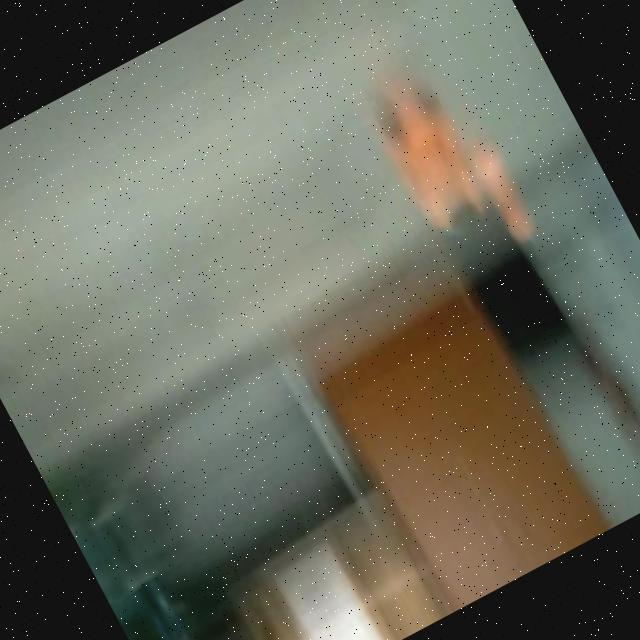ping-pong-ball: (338, 60, 470, 194), (481, 178, 549, 252)
